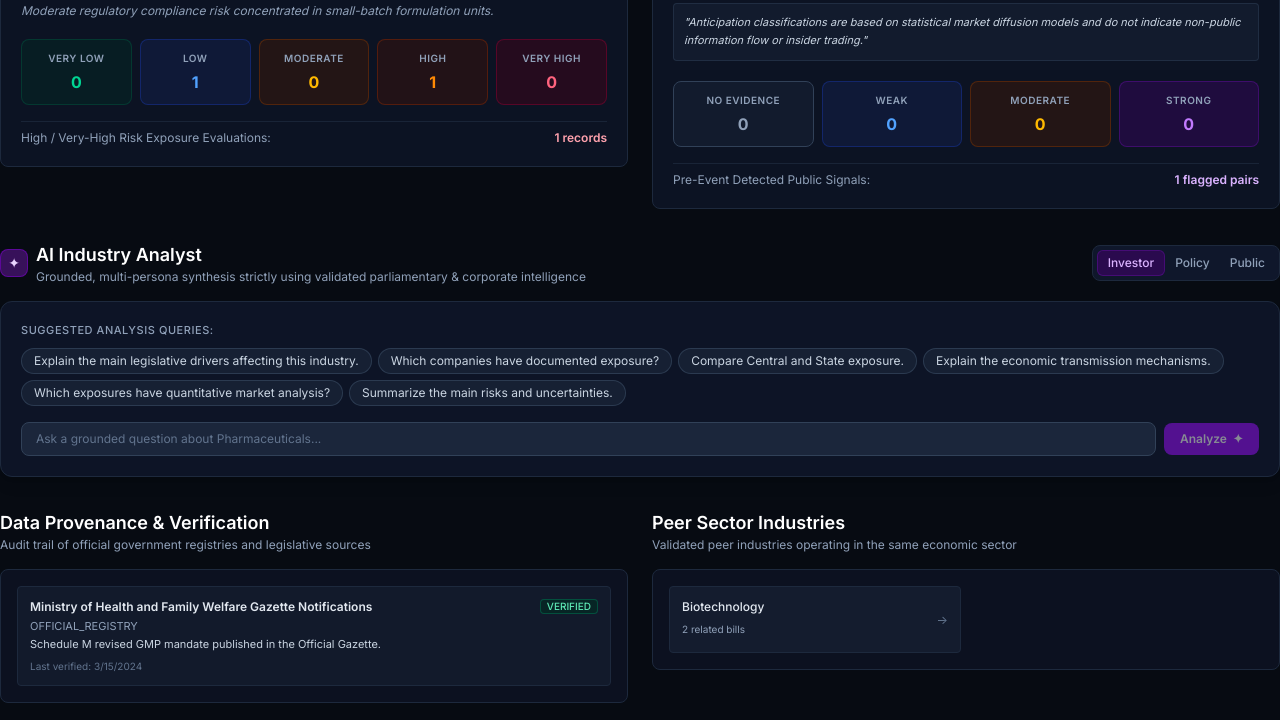
Test: IndustryDetailContent (Industry Intelligence Dossier) › submits grounded AI analyst query when prompt chip is clicked
(page scrolled)
Click the button "Explain the economic transmission mechanisms.": (1073, 361) [923,348,1224,374]
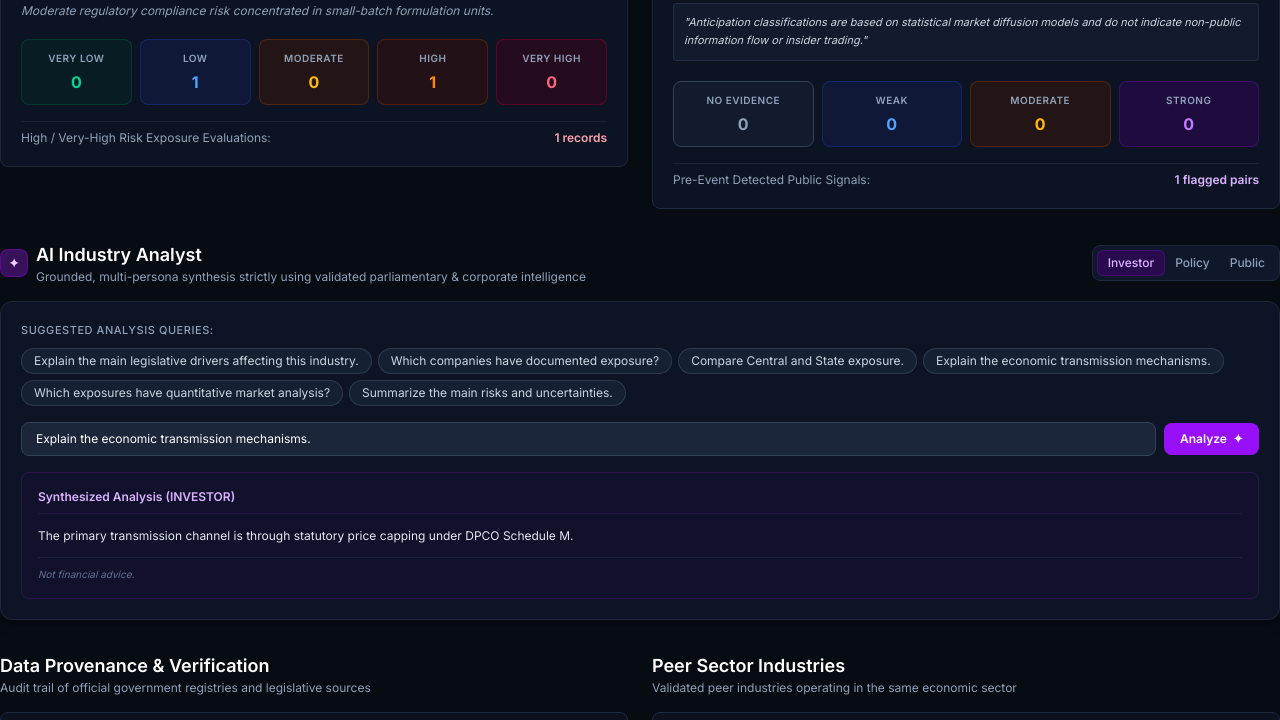
Result: the text "The primary transmission channel is through statutory price capping" is shown at [38,528,574,543]
